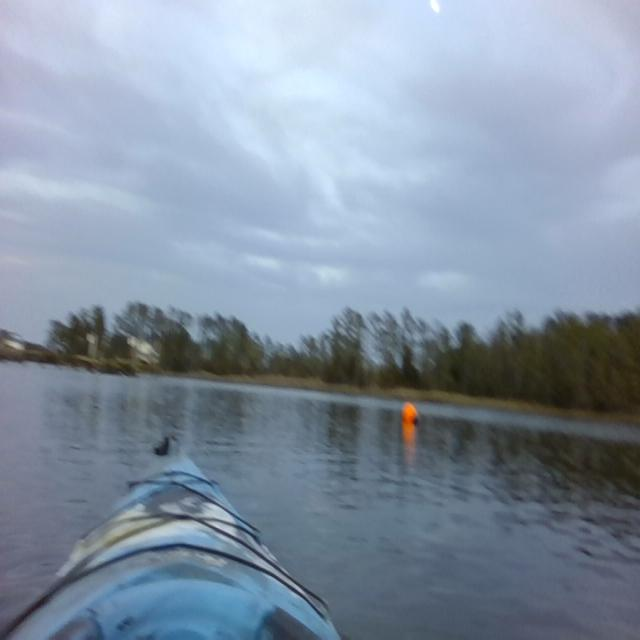Buoy: (400, 399, 420, 428)
